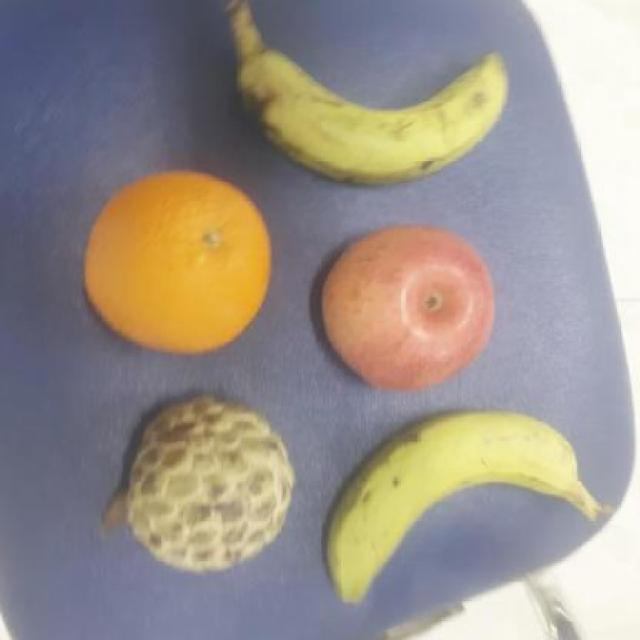apple: (316, 220, 496, 398)
banana: (322, 404, 600, 602), (233, 37, 516, 194)
oren: (80, 170, 274, 356)
sugar apple: (119, 395, 296, 577)
